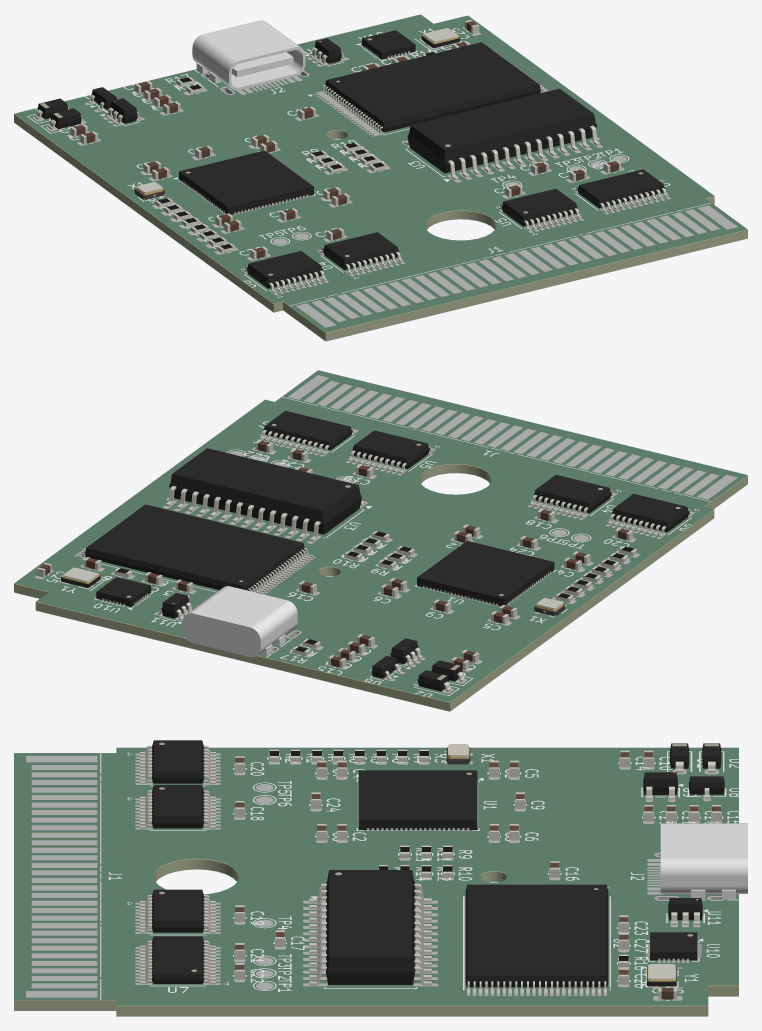
The model's file is board.glb.
3 views of the same model, one above another, from view 1: azimuth 30°, elevation 25°; view 2: azimuth 150°, elevation 25°; view 3: azimuth 270°, elevation 25° (orthographic). The views are drawn at different scales.
Visible parts, largest first — view 1: =>[0:1:1:36], =>[0:1:1:38], =>[0:1:1:34], =>[0:1:1:17], =>[0:1:1:23], =>[0:1:1:13] (×3), =>[0:1:1:29], =>[0:1:1:19], =>[0:1:1:35], =>[0:1:1:5], =>[0:1:1:11], =>[0:1:1:37] (+3 smaller); view 2: =>[0:1:1:36], =>[0:1:1:38], =>[0:1:1:34], =>[0:1:1:17], =>[0:1:1:23], =>[0:1:1:13] (×3), =>[0:1:1:29], =>[0:1:1:19], =>[0:1:1:35], =>[0:1:1:5], =>[0:1:1:11], =>[0:1:1:37] (+2 smaller); view 3: =>[0:1:1:36], =>[0:1:1:38], =>[0:1:1:34], =>[0:1:1:17], =>[0:1:1:23], =>[0:1:1:13] (×3), =>[0:1:1:19], =>[0:1:1:35], =>[0:1:1:29], =>[0:1:1:5], =>[0:1:1:11], =>[0:1:1:21] (×2) (+6 smaller).
Boxes of the visible parts, <box> form: =>[0:1:1:36]: <box>14,14,747,332</box>; =>[0:1:1:38]: <box>14,15,747,340</box>; =>[0:1:1:34]: <box>33,27,737,327</box>; =>[0:1:1:17]: <box>316,42,547,135</box>; =>[0:1:1:23]: <box>404,88,600,180</box>; =>[0:1:1:13] (×3): <box>242,188,581,293</box>; =>[0:1:1:29]: <box>192,20,305,90</box>; =>[0:1:1:19]: <box>179,150,313,214</box>; =>[0:1:1:35]: <box>27,28,711,305</box>; =>[0:1:1:5]: <box>573,169,668,212</box>; =>[0:1:1:11]: <box>362,30,415,59</box>; =>[0:1:1:37]: <box>15,123,747,341</box>; =>[0:1:1:36]: <box>14,370,747,702</box>; =>[0:1:1:38]: <box>14,371,747,711</box>; =>[0:1:1:34]: <box>35,375,737,693</box>; =>[0:1:1:17]: <box>76,504,313,593</box>; =>[0:1:1:23]: <box>165,448,365,541</box>; =>[0:1:1:13] (×3): <box>348,430,693,536</box>; =>[0:1:1:29]: <box>182,586,297,657</box>; =>[0:1:1:19]: <box>417,541,554,605</box>; =>[0:1:1:35]: <box>46,396,710,696</box>; =>[0:1:1:5]: <box>259,411,356,454</box>; =>[0:1:1:11]: <box>96,577,151,606</box>; =>[0:1:1:37]: <box>14,472,747,711</box>; =>[0:1:1:36]: <box>14,747,738,1005</box>; =>[0:1:1:38]: <box>14,748,738,1015</box>; =>[0:1:1:34]: <box>26,753,725,1000</box>; =>[0:1:1:17]: <box>465,884,608,994</box>; =>[0:1:1:23]: <box>309,870,431,985</box>; =>[0:1:1:13] (×3): <box>140,740,215,933</box>; =>[0:1:1:19]: <box>358,770,477,829</box>; =>[0:1:1:35]: <box>100,751,738,1000</box>; =>[0:1:1:29]: <box>660,823,747,899</box>; =>[0:1:1:5]: <box>140,936,215,984</box>; =>[0:1:1:11]: <box>650,932,697,960</box>; =>[0:1:1:21] (×2): <box>670,743,721,772</box>.
Bounding box in the file's own units: 0.0514 × 0.0043 × 0.0618.
